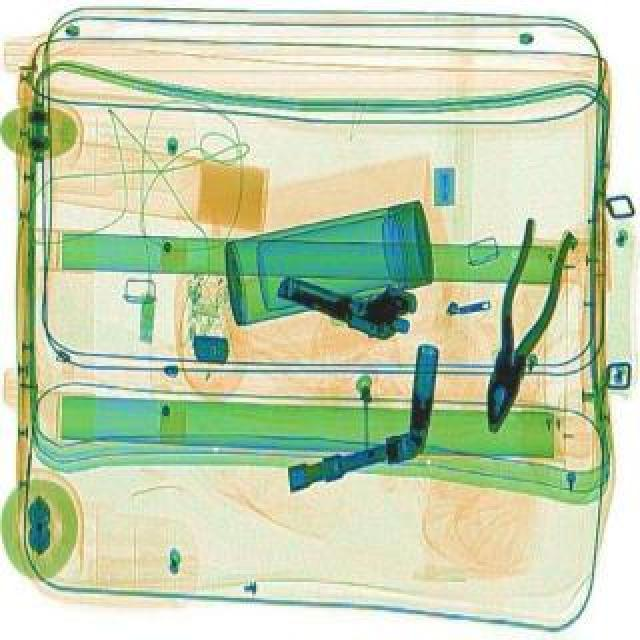gun: (272, 246, 424, 356)
wrench: (464, 220, 576, 442)
